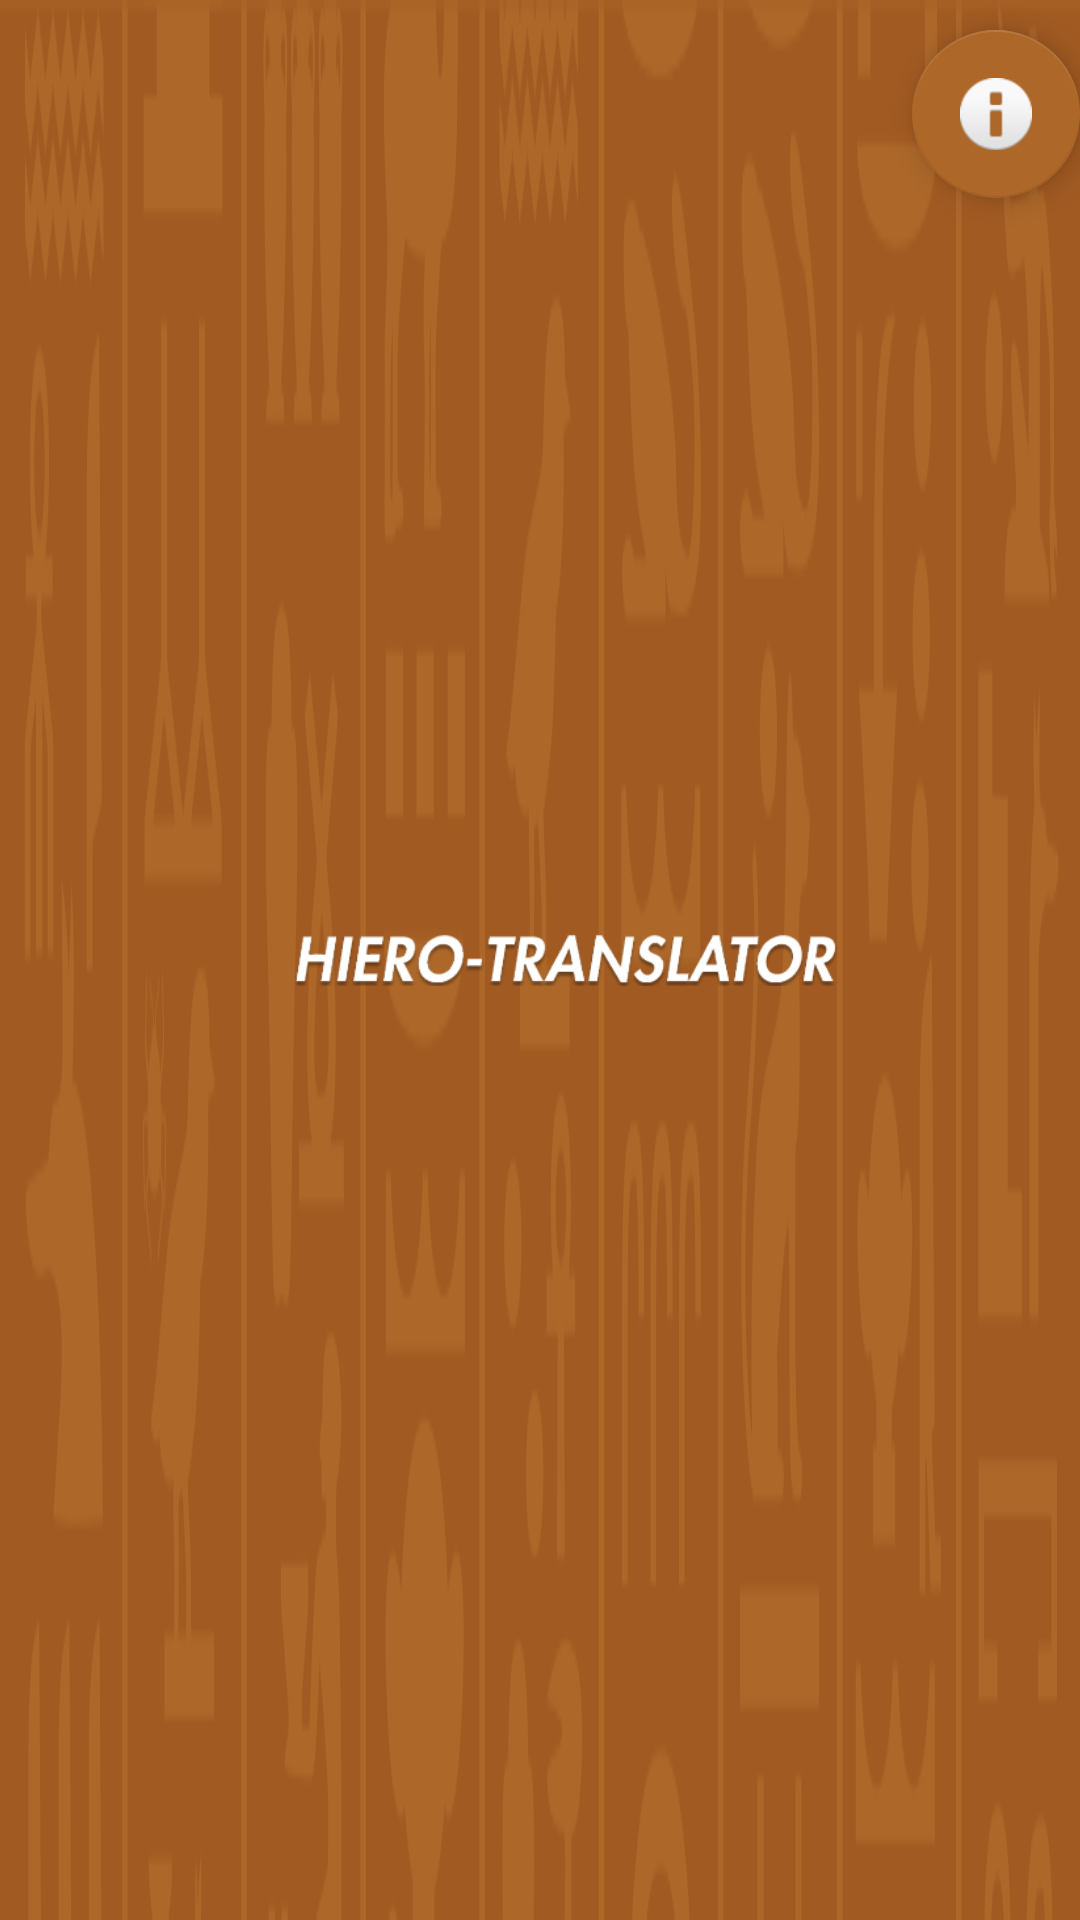

Icons on this 1080x1920 Android screen, each with the point to tap as (x=x, y=y):
info: (x=996, y=114)
